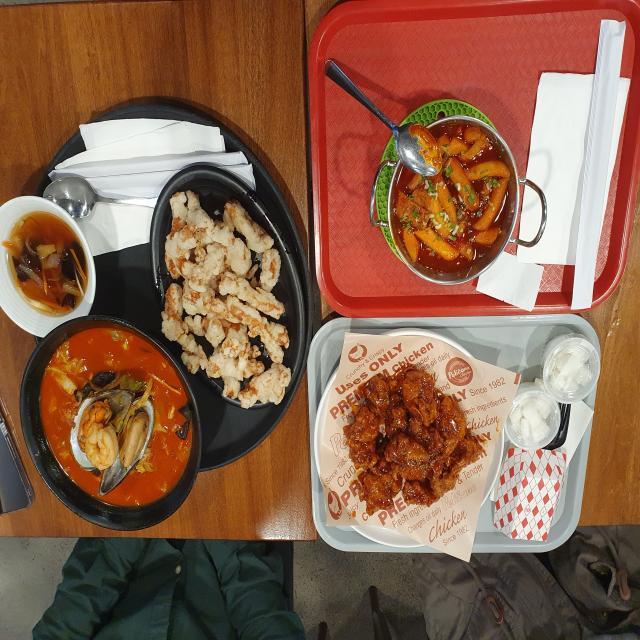Bowl: (20, 314, 202, 532), (386, 114, 547, 285), (0, 195, 96, 338)
Plate: (297, 6, 636, 312), (308, 314, 600, 554)
